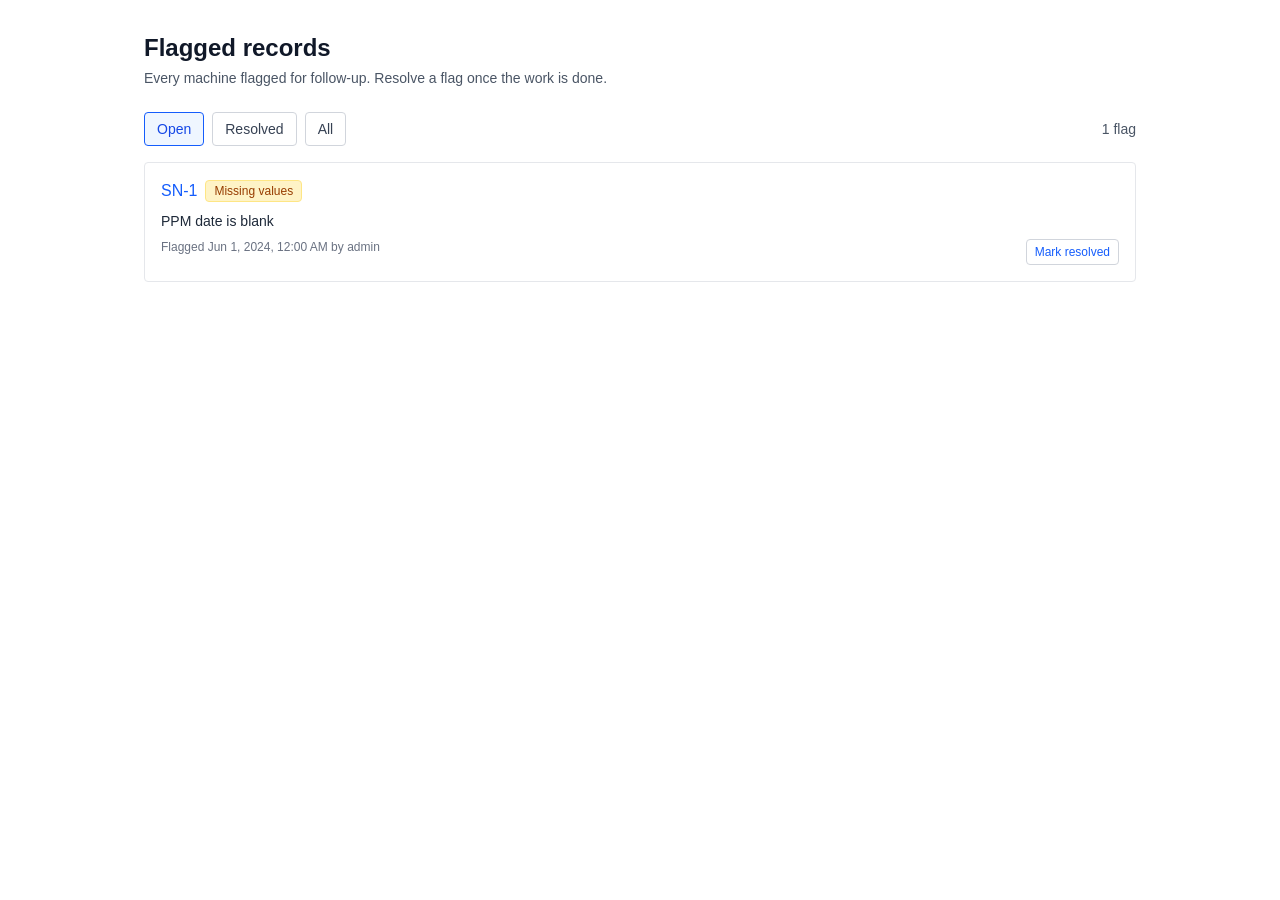
Test: FlagsPage › leaves the flag alone when the prompt is cancelled
What coordinates should you click on to do the following:
click the button "Mark resolved"
I would click on:
 (1072, 252)
Its box is [1026,239,1119,265].
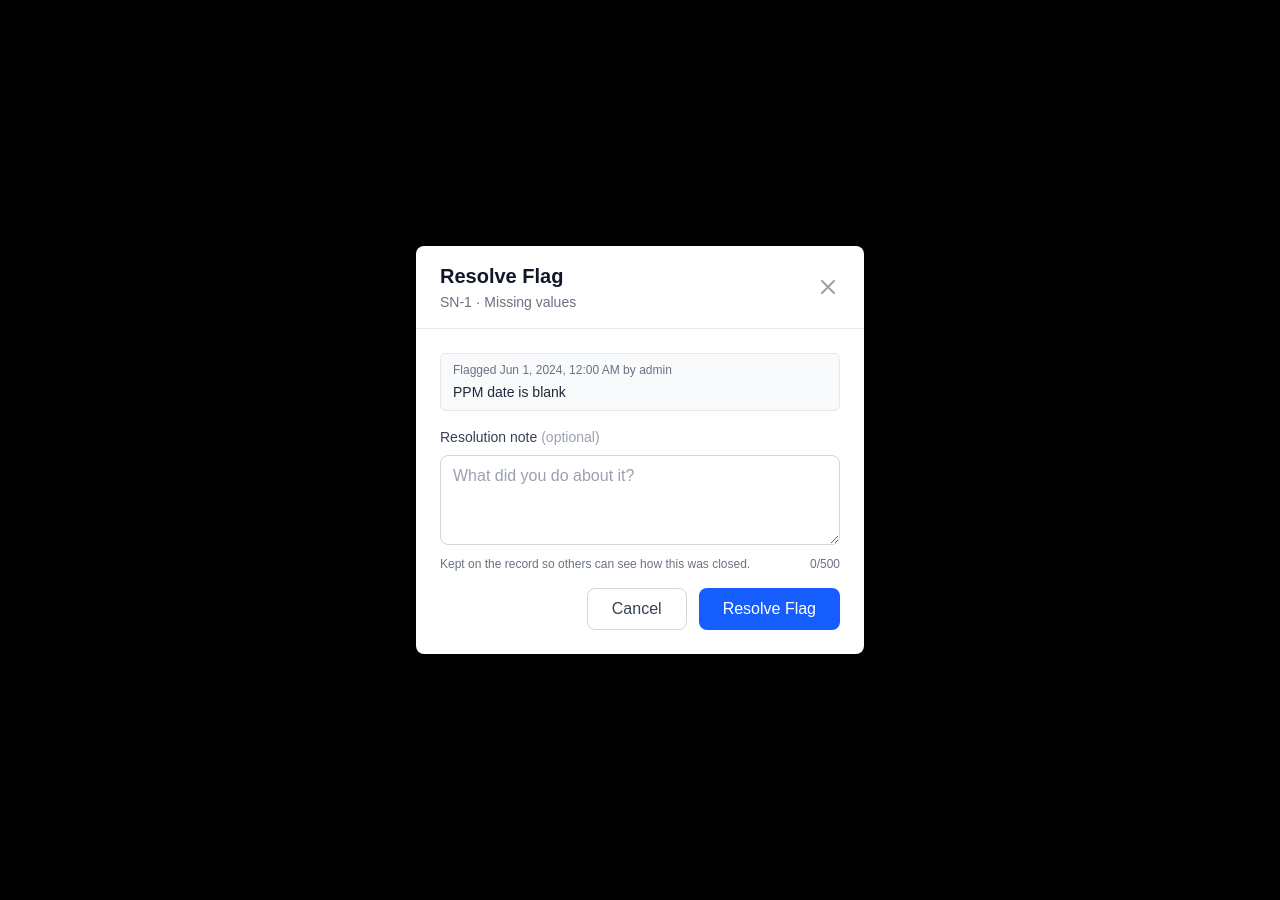
What coordinates should you click on to do the following:
click the button "Cancel"
I would click on:
 (637, 609)
Its box is [587,588,687,630].
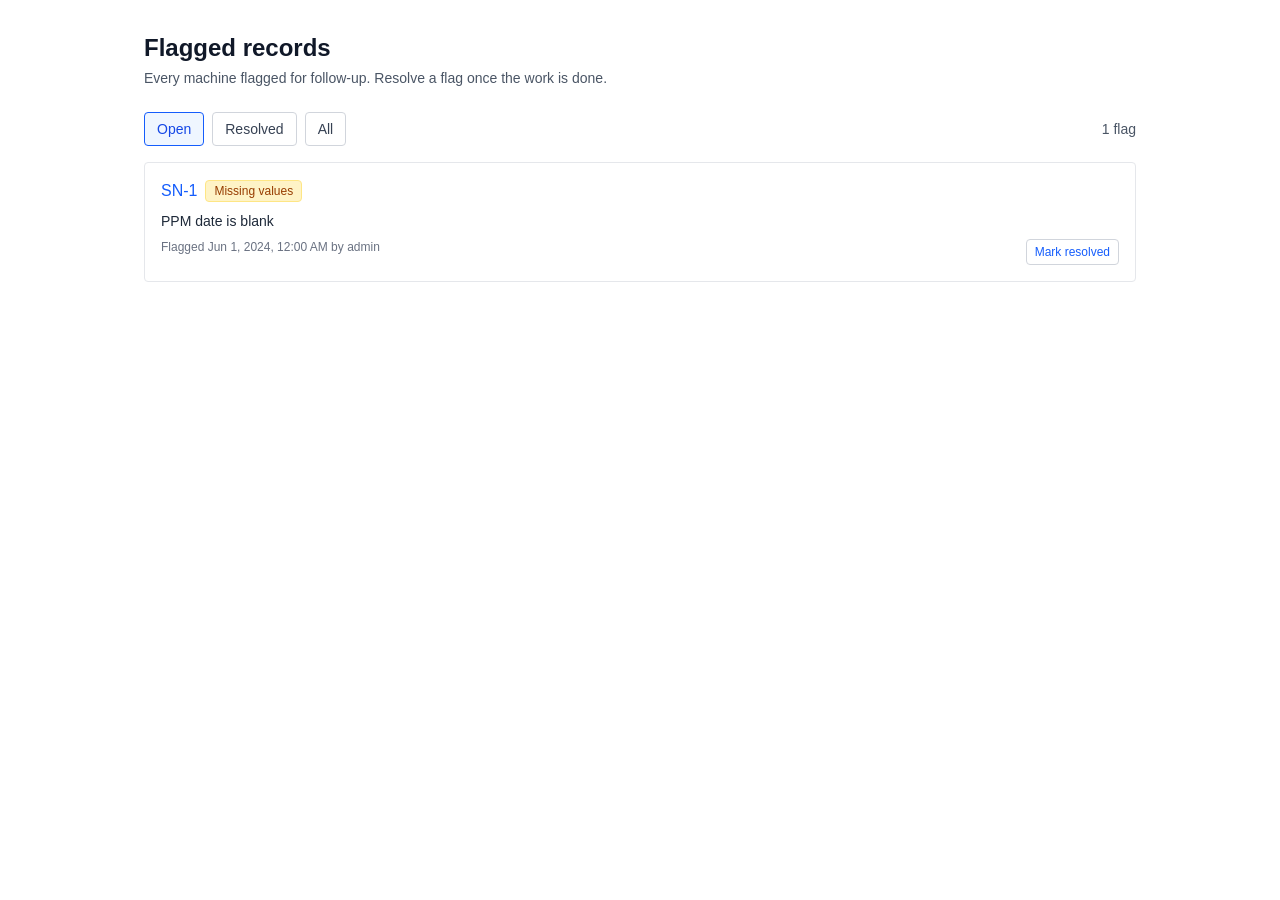
Result: the dialog is gone
